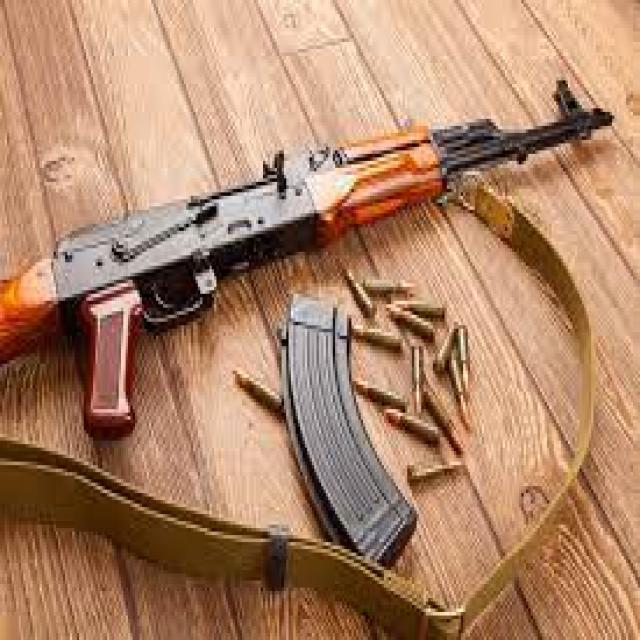weapon: (1, 77, 616, 443)
